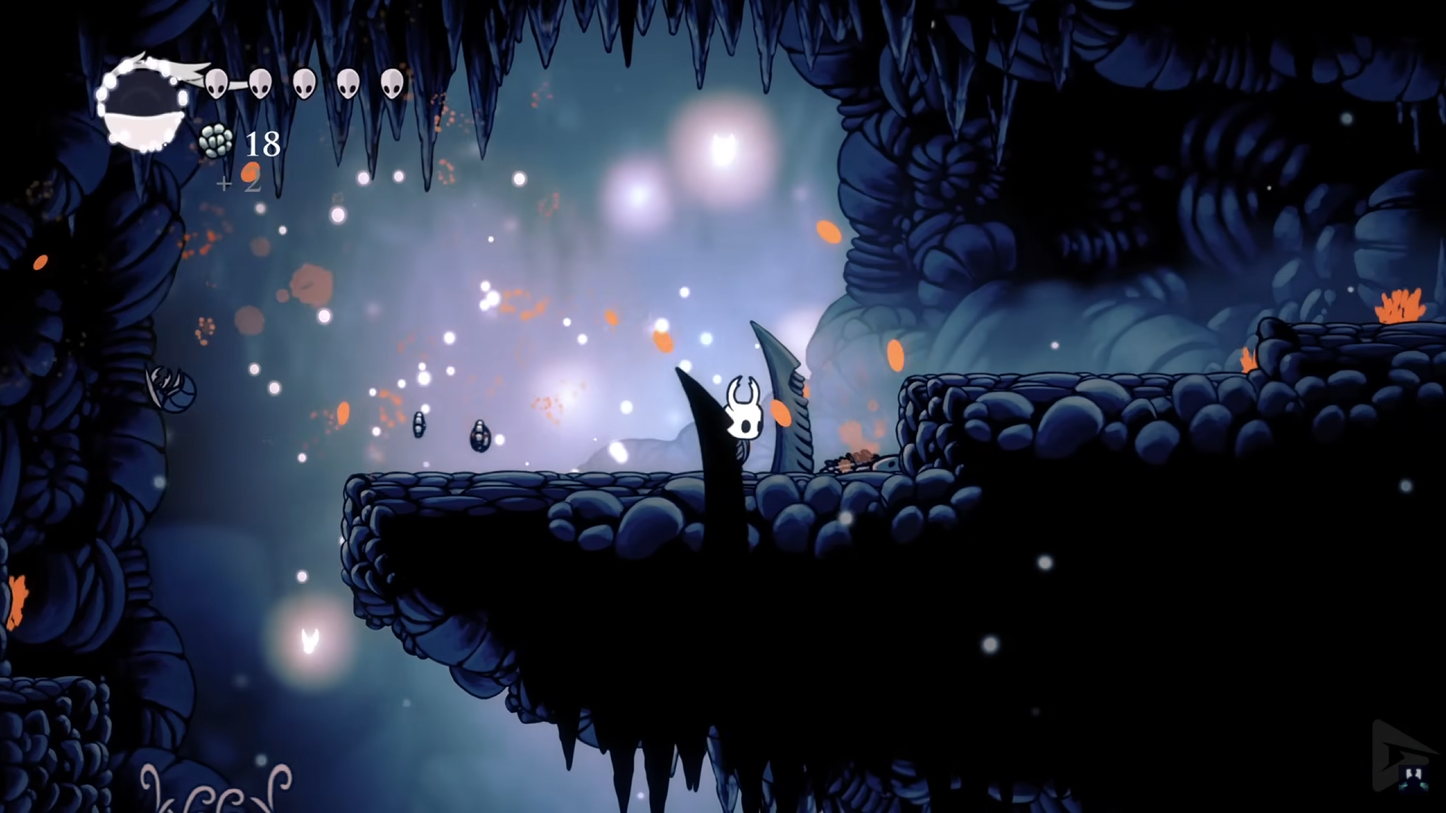HK: (716, 374, 770, 471)
